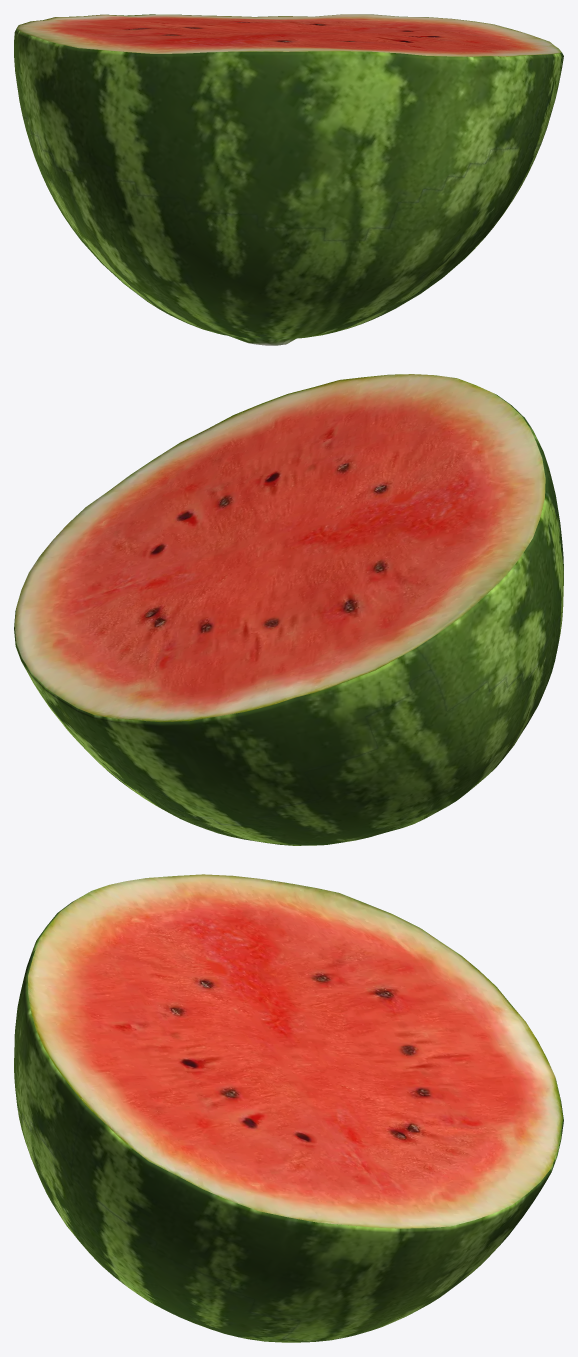
The model's file is watermelon.glb.
3 views of the same model, one above another, from view 1: azimuth 30°, elevation 25°; view 2: azimuth 150°, elevation 25°; view 3: azimuth 270°, elevation 25° (orthographic). The views are drawn at different scales.
Parts seen in each view (by area): view 1: melon_half; view 2: melon_half; view 3: melon_half.
Part boxes in pixels (x1=…): melon_half: x1=14, y1=14, x2=563, y2=345; melon_half: x1=14, y1=374, x2=563, y2=845; melon_half: x1=14, y1=874, x2=563, y2=1342.
Size of the model in its own units: 0.7224 by 0.5242 by 0.7117.
Materials: 2 (2 with a texture image).
